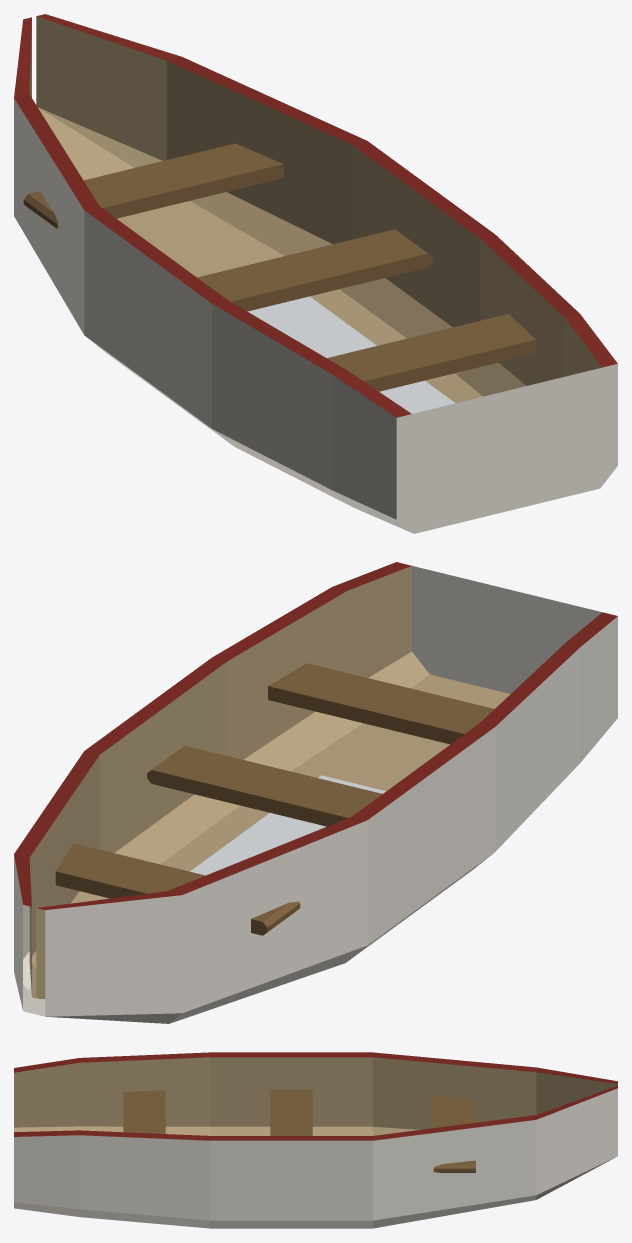
File: boat_lo.glb
3 views of the same model, one above another, from view 1: azimuth 30°, elevation 25°; view 2: azimuth 150°, elevation 25°; view 3: azimuth 270°, elevation 25° (orthographic). The views are drawn at different scales.
Parts seen in each view (by area): view 1: body.008; view 2: body.008; view 3: body.008.
Boxes of the visible parts, x1=… form: body.008: x1=14, y1=14, x2=617, y2=533; body.008: x1=14, y1=562, x2=617, y2=1023; body.008: x1=14, y1=1052, x2=617, y2=1228.
Size of the model in its own units: 1.28 by 0.72 by 3.7.
